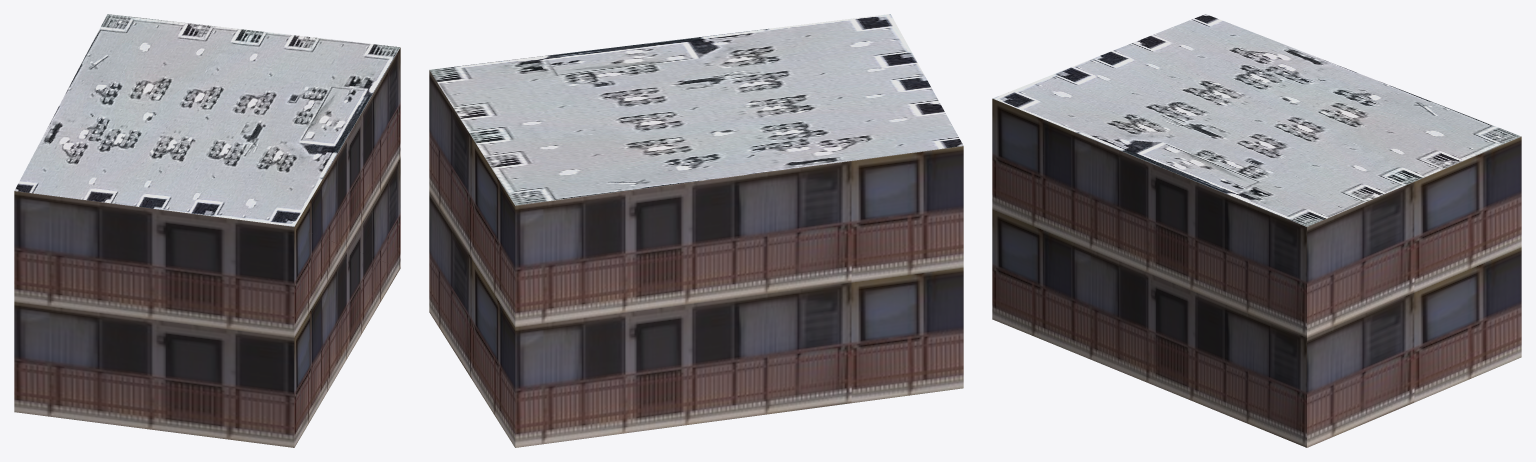
The model's file is ResTex__3543.fbx.
The picture shows the model from 3 angles, left to right: view 1: azimuth 30°, elevation 25°; view 2: azimuth 150°, elevation 25°; view 3: azimuth 270°, elevation 25°; orthographic projection. The views are drawn at different scales.
Parts seen in each view (by area): view 1: CityEngineMaterial_6_m, CityEngineMaterial_4_m; view 2: CityEngineMaterial_6_m, CityEngineMaterial_4_m; view 3: CityEngineMaterial_6_m, CityEngineMaterial_4_m.
Part boxes in pixels (x1,y1,x2,y2): CityEngineMaterial_6_m: (14,47,400,447); CityEngineMaterial_4_m: (14,14,400,226); CityEngineMaterial_6_m: (429,70,963,447); CityEngineMaterial_4_m: (429,14,963,205); CityEngineMaterial_6_m: (992,98,1521,447); CityEngineMaterial_4_m: (993,14,1520,226).
Size of the model in its own units: 12.41 by 6 by 13.02.
Materials: 2 (2 with a texture image).
